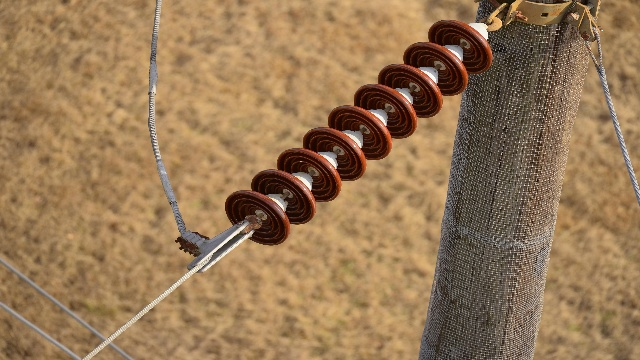insulator_unspecified: (226, 18, 494, 243)
